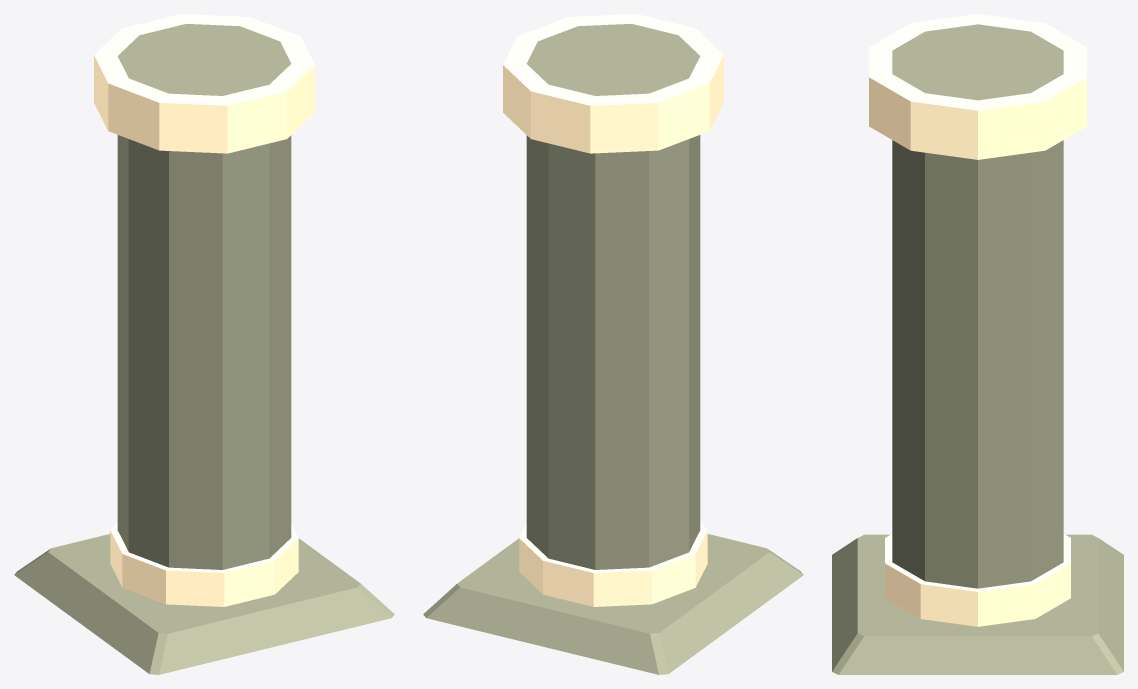
The model's file is column_big.fbx.
The picture shows the model from 3 angles, left to right: view 1: azimuth 30°, elevation 25°; view 2: azimuth 150°, elevation 25°; view 3: azimuth 270°, elevation 25°; orthographic projection. The views are drawn at different scales.
Parts seen in each view (by area): view 1: column, column_big; view 2: column, column_big; view 3: column, column_big.
Boxes of the visible parts, bbox=[...] form: column: bbox=[94, 14, 314, 606]; column_big: bbox=[14, 534, 394, 674]; column: bbox=[503, 14, 723, 606]; column_big: bbox=[423, 534, 803, 674]; column: bbox=[869, 14, 1086, 626]; column_big: bbox=[832, 534, 1123, 674].
Size of the model in its own units: 4.74 by 9.86 by 4.74.
